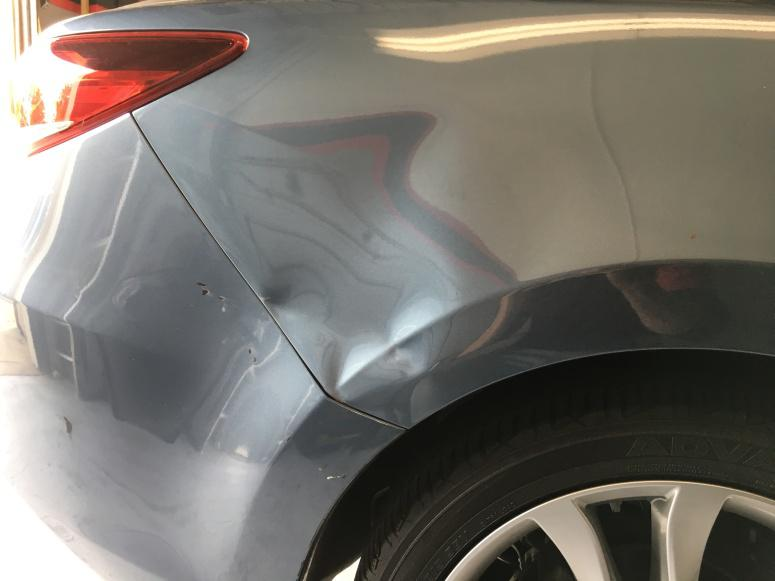quaterpanel-dent: (167, 0, 774, 542)
